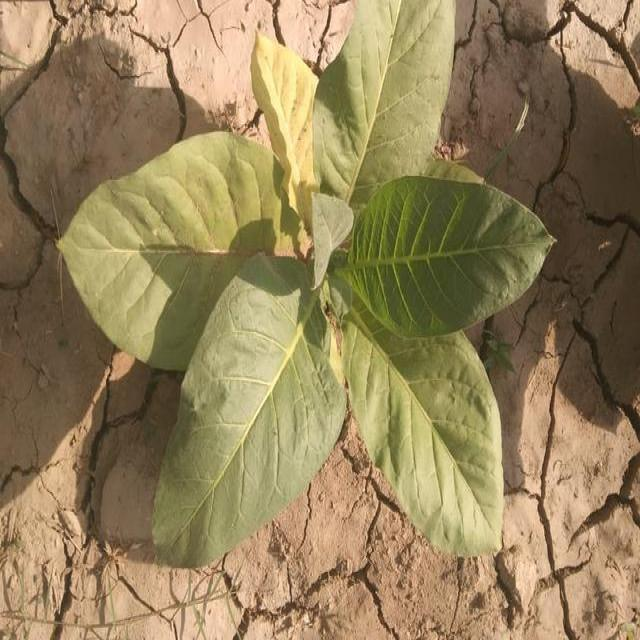crop: (69, 0, 550, 579)
